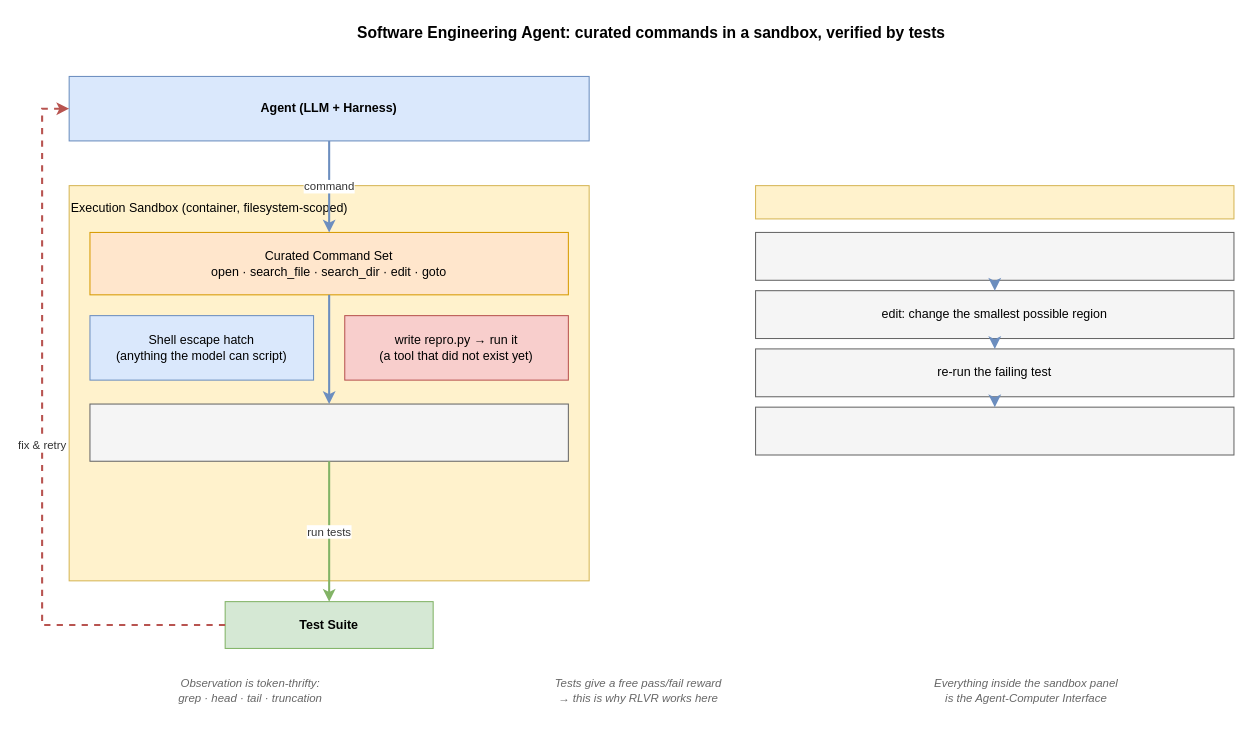
Image size: 1252x738. Some labels were removed from this diagram. The centre of each missing label's shape, as x and y in pixels:
"green? → run the full suite before finishing" belongs at pixel 994 430.
"localise: read the traceback, grep the symbol" belongs at pixel 994 255.
"One fix-and-retry cycle" belongs at pixel 994 202.
"stdout / stderr / exit code / diff" belongs at pixel 328 432.
